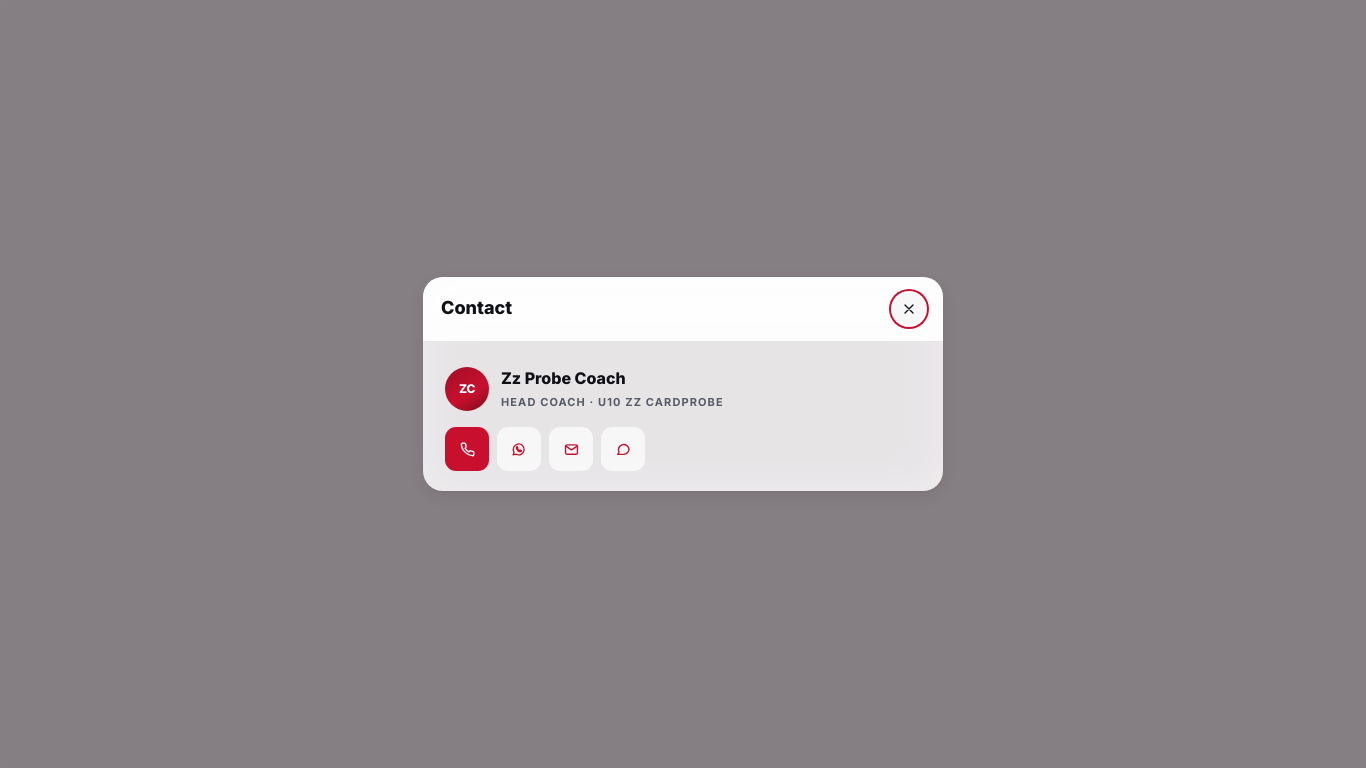
PersonCard › a refused DM renders the database's words inline
The width and height of the screenshot is (1366, 768).
Click the button named "Chat with Zz Probe Coach" at (623,449), box x1=601 y1=427 x2=645 y2=471
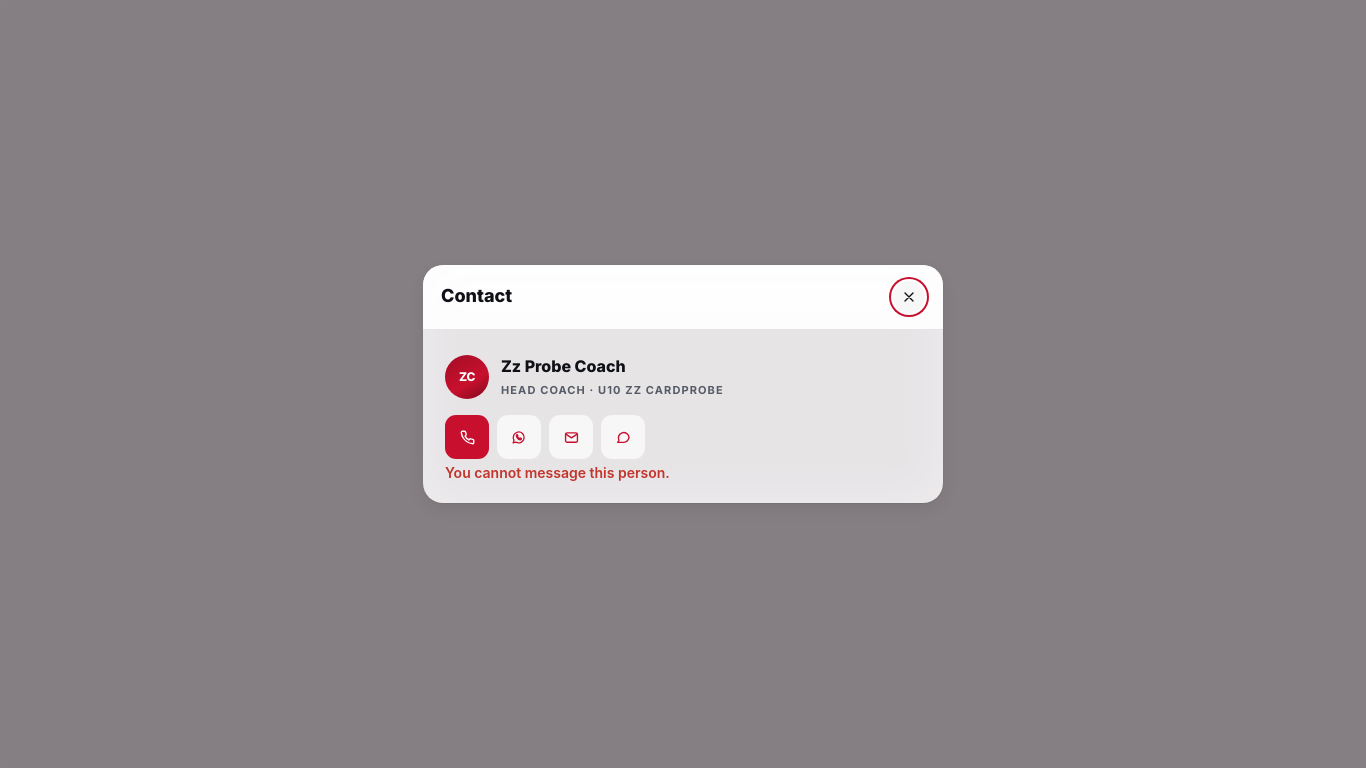
Check: the text "You cannot message this person." is shown, box x1=445 y1=464 x2=670 y2=481
